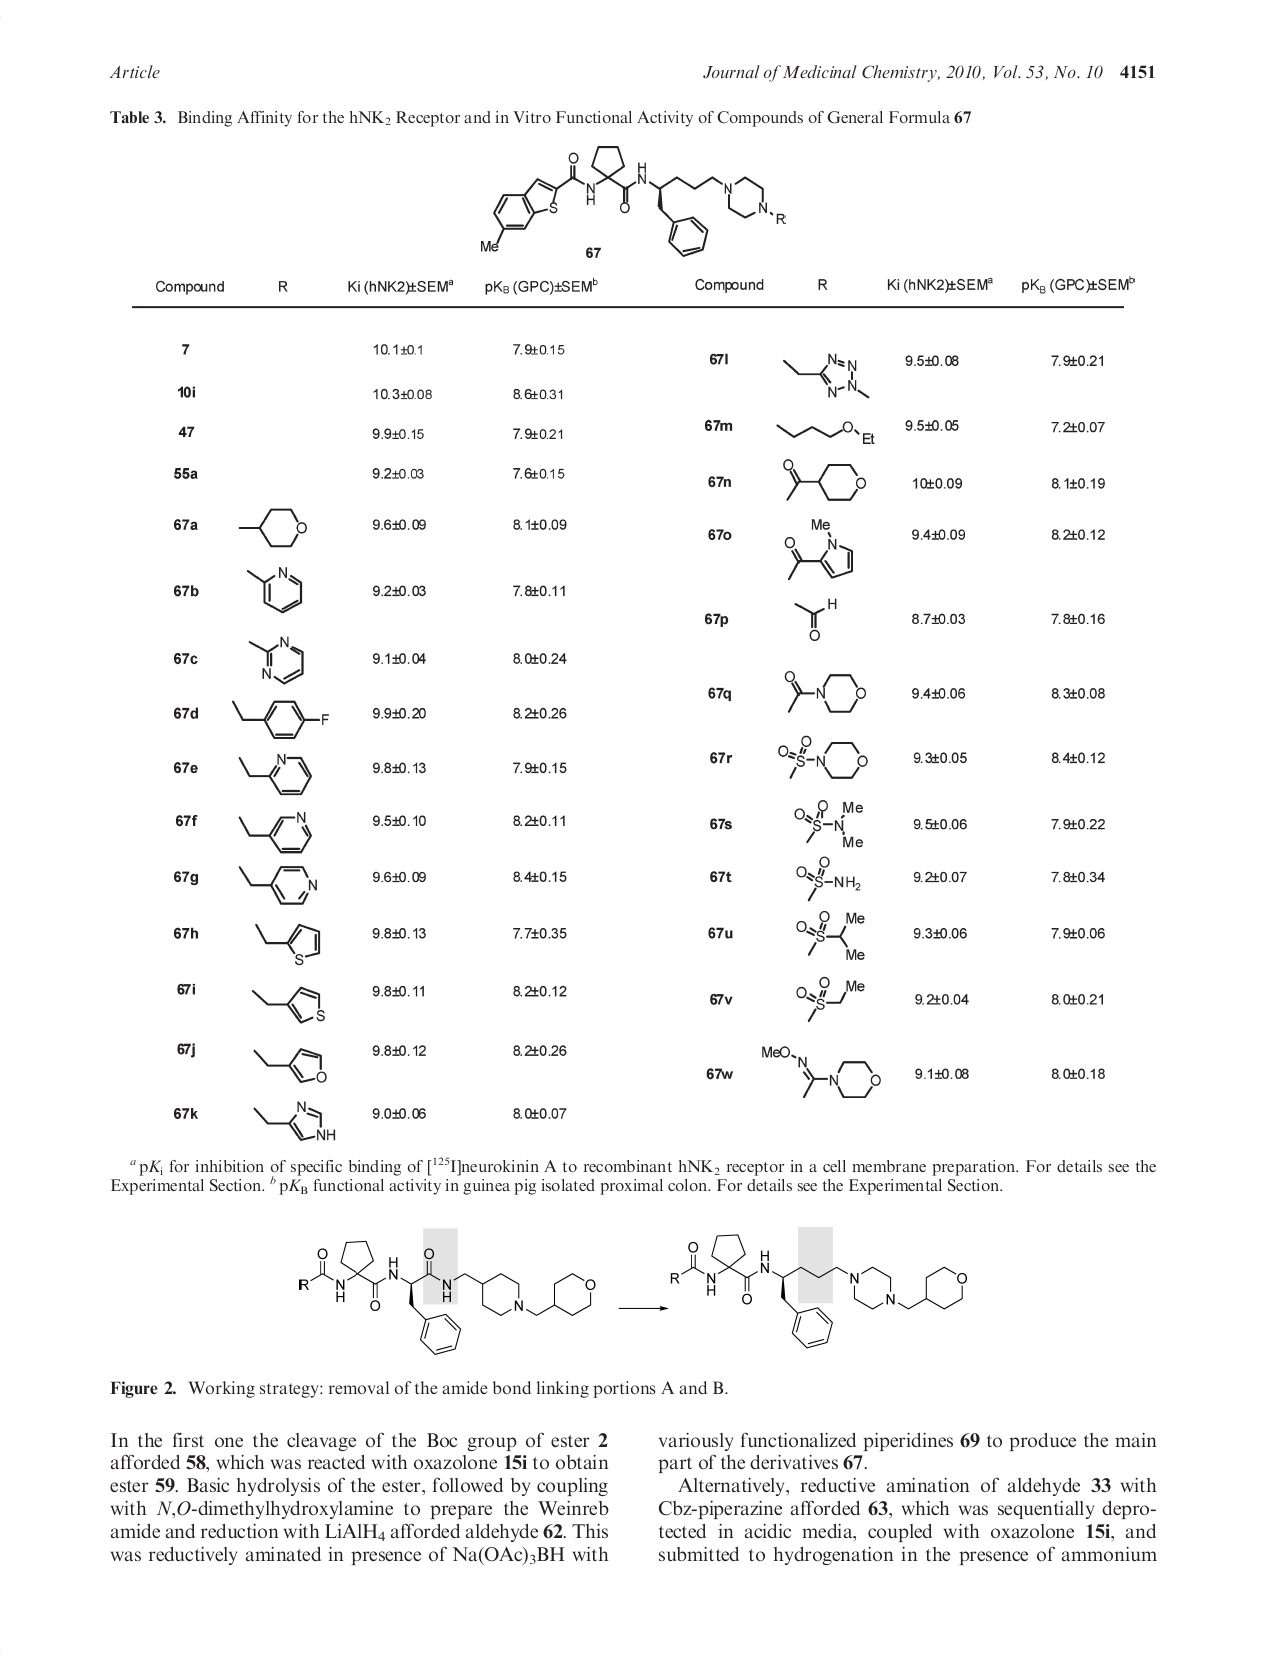exist_molecular: (664, 1223, 973, 1355), (287, 1234, 597, 1360), (475, 141, 797, 261), (751, 1035, 892, 1102), (763, 515, 859, 589), (763, 795, 872, 858), (766, 729, 870, 791), (793, 903, 882, 967), (777, 668, 872, 726), (781, 350, 875, 407), (243, 1094, 340, 1148), (777, 455, 871, 509), (227, 745, 318, 801), (227, 696, 336, 741), (231, 855, 320, 908), (237, 919, 330, 969), (789, 972, 875, 1025), (233, 803, 316, 858), (237, 496, 314, 555), (771, 412, 880, 453), (246, 630, 314, 689), (246, 559, 313, 617), (243, 979, 324, 1025), (251, 1041, 327, 1089), (794, 855, 866, 906), (782, 594, 842, 645)
